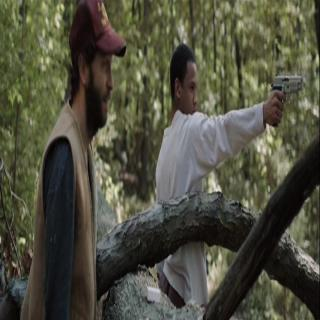gun: (269, 67, 304, 135)
